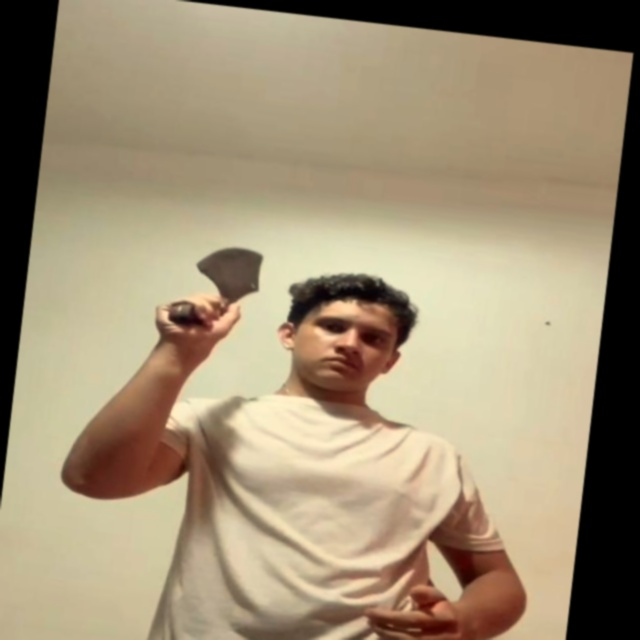Sharp-Object: (190, 241, 275, 303)
